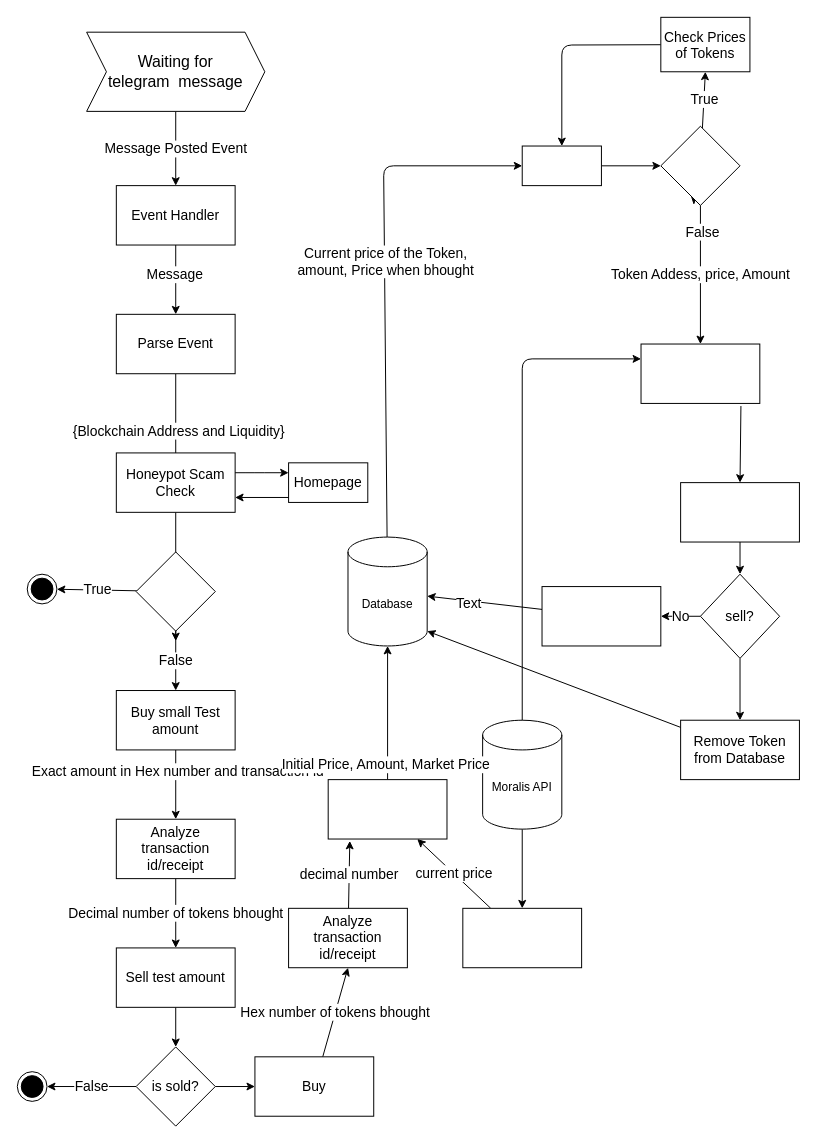
Some shapes in this 817 by 1143 pixel diagram are drawn without their labels. The centre of each missing label's shape, as x and y in pixels:
"Check Current Market Price" belongs at (700,373).
"Check if token should be sold" belongs at (739,512).
"Get current Market price" belongs at (522,937).
"Get tokens" belongs at (561,165).
"Insert Purchase info to database" belongs at (387,809).
"Is Database empty" belongs at (700,165).
"is scam?" belongs at (175,591).
"Update Current Price In Database" belongs at (601,616).
